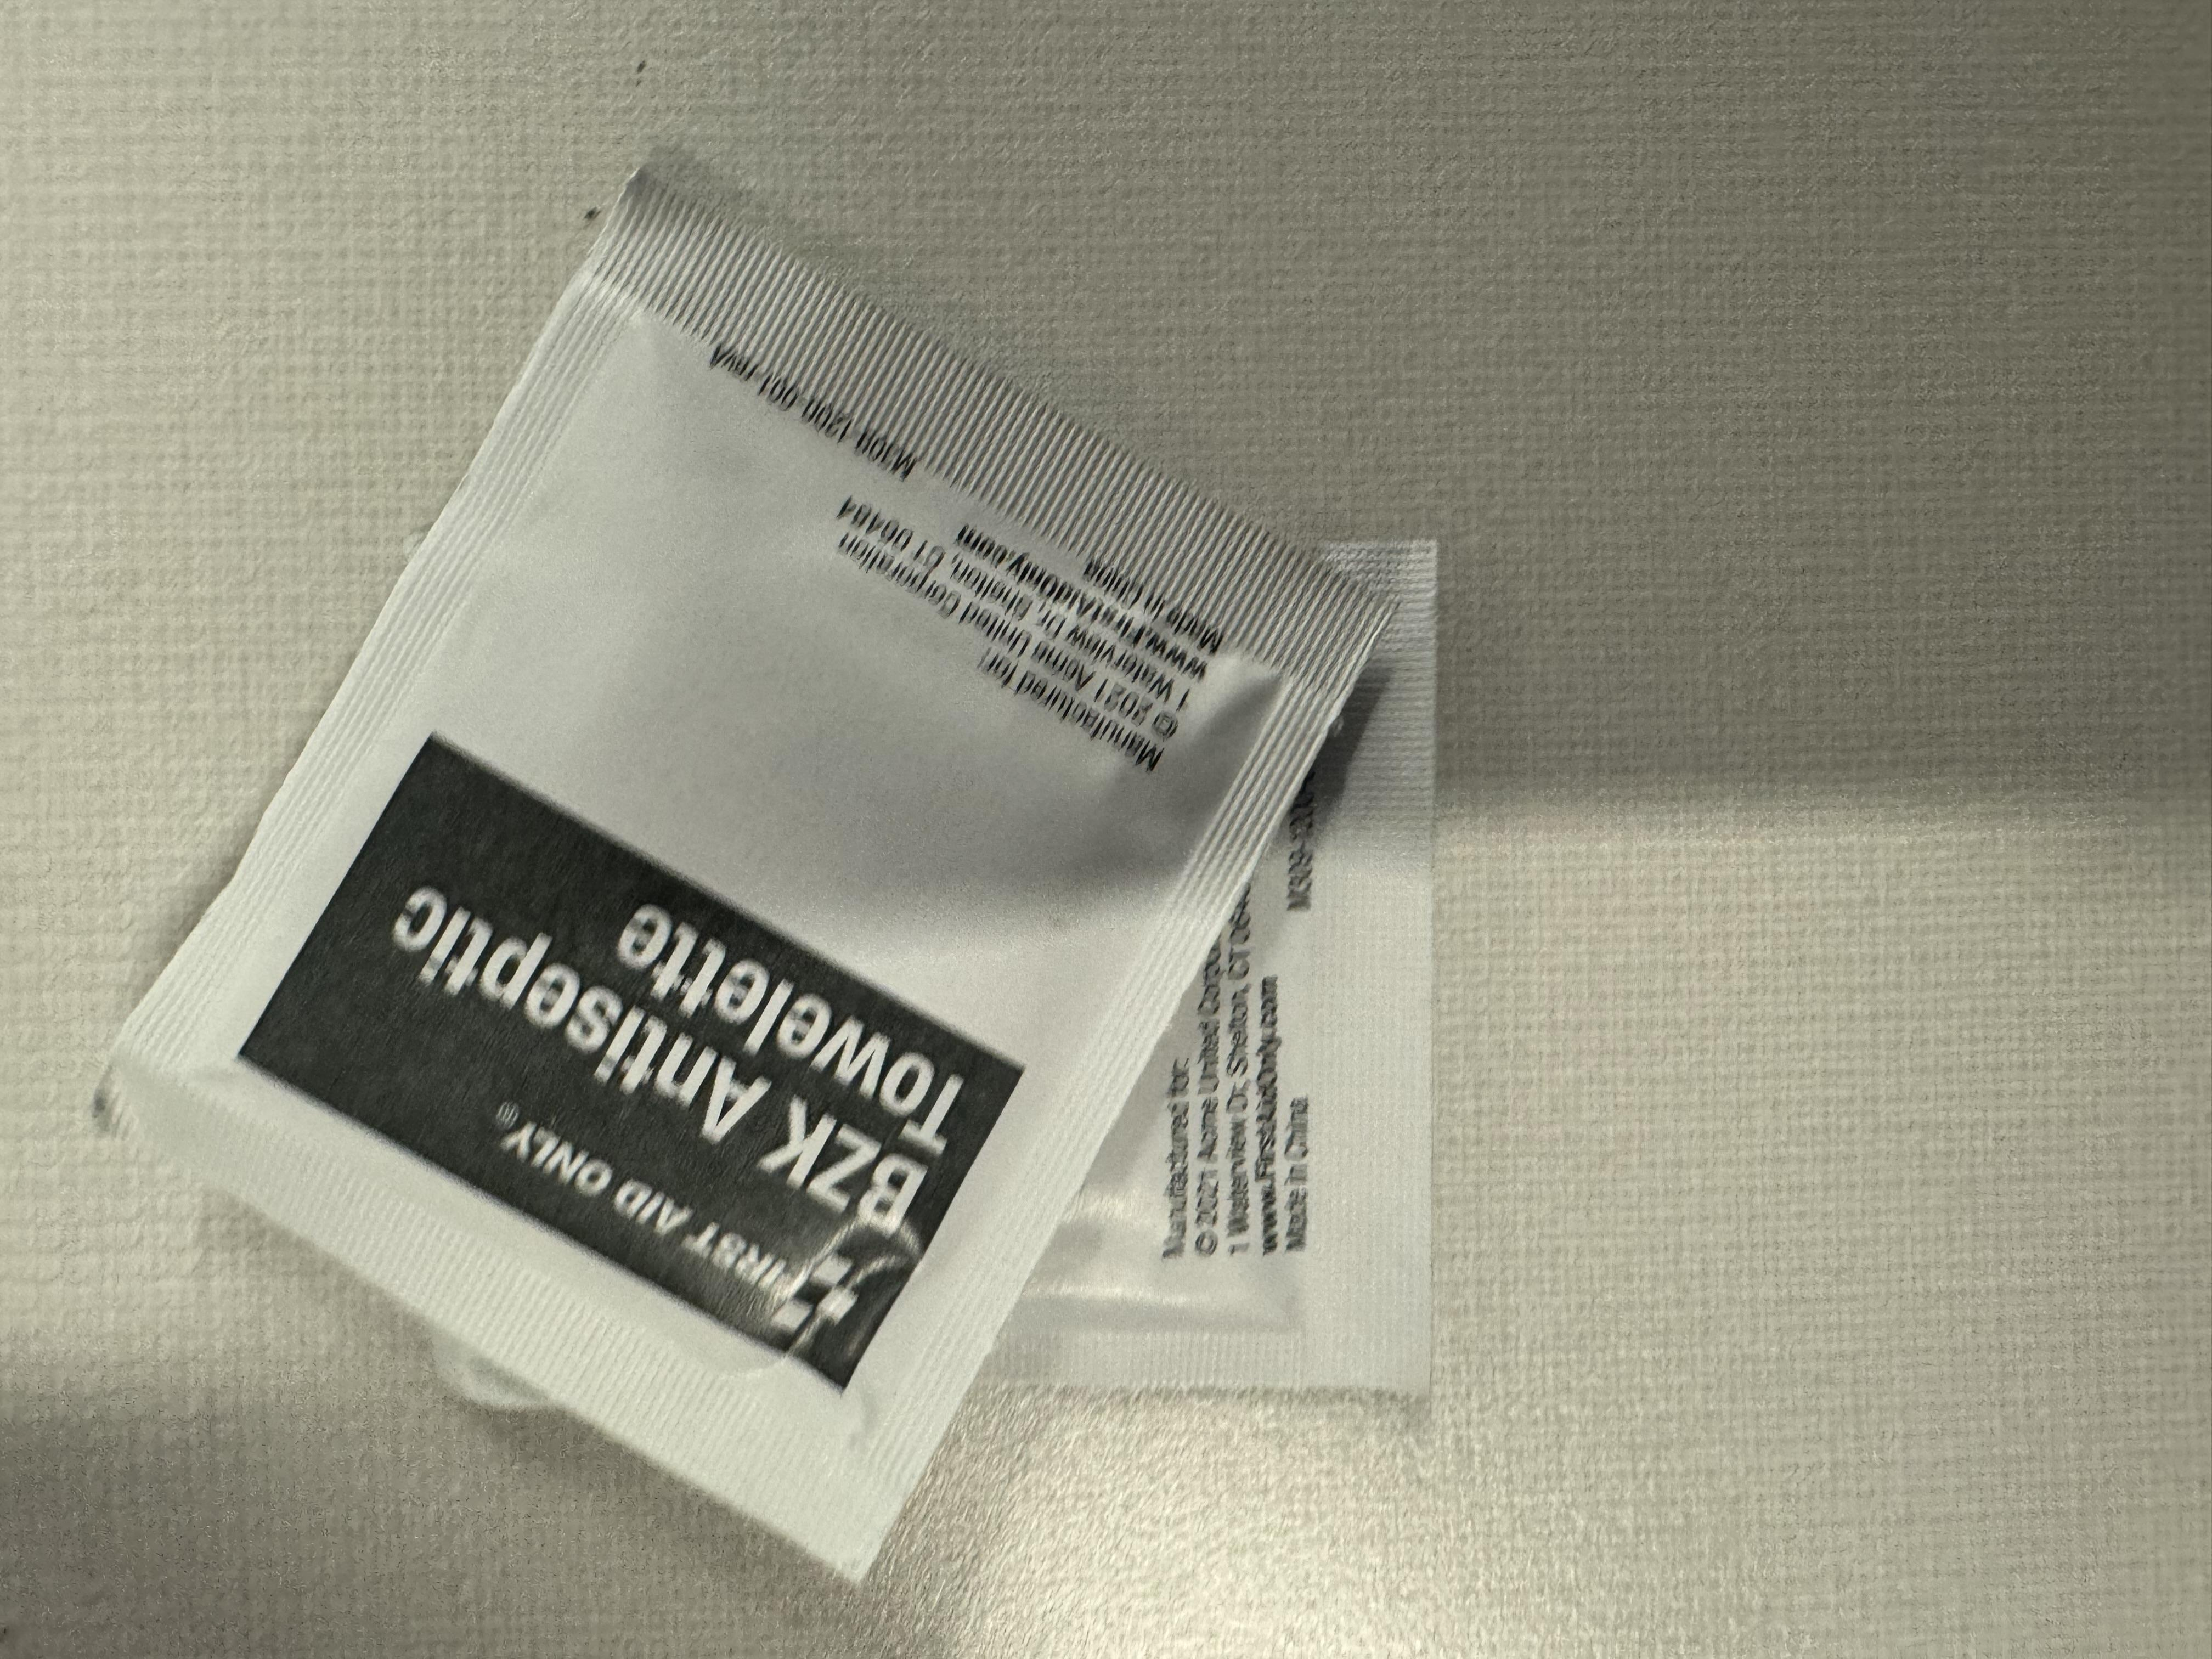antiseptic wipe: (667, 30, 2160, 1565)
